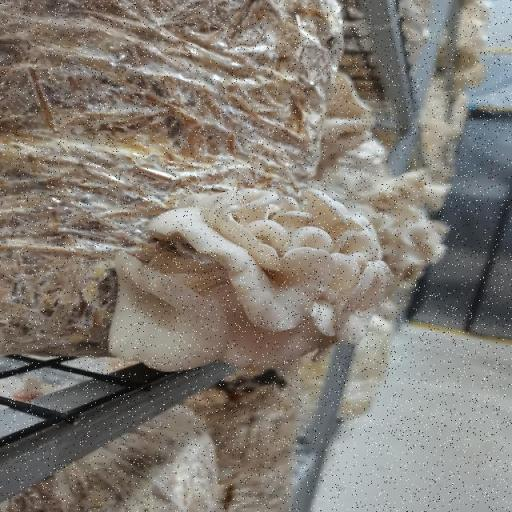White Oyster Mushroom: (99, 178, 385, 375)
